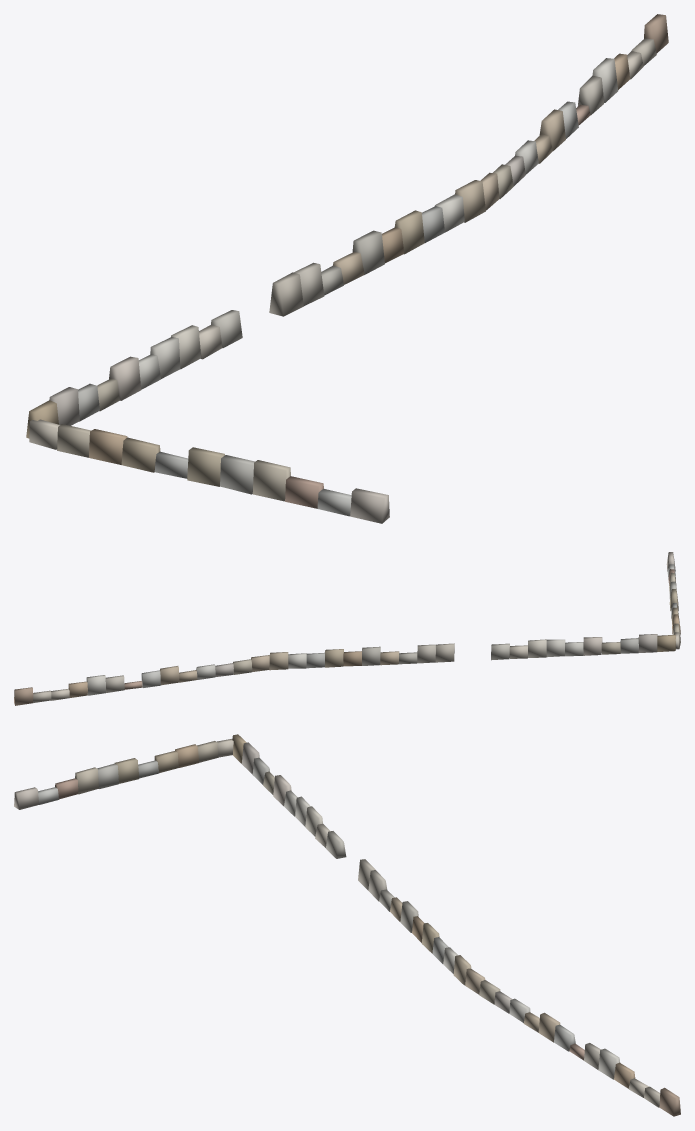
File: farm_-29_-27_far.glb
The picture shows the model from 3 angles, top to bottom: view 1: azimuth 30°, elevation 25°; view 2: azimuth 150°, elevation 25°; view 3: azimuth 270°, elevation 25°; orthographic projection. The views are drawn at different scales.
Parts seen in each view (by area): view 1: geometry_0; view 2: geometry_0; view 3: geometry_0.
Part boxes in pixels (left/top/right/bottom): geometry_0: left=26, top=14, right=668, bottom=523; geometry_0: left=14, top=552, right=680, bottom=705; geometry_0: left=14, top=734, right=680, bottom=1116.
Size of the model in its own units: 48.91 by 5.93 by 44.99.
